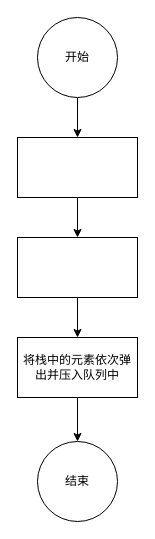
Some shapes in this 155 by 539 pixel diagram are drawn without their labels. The box of each missing label's shape, as (x1, y1, x2, y2) in pixels:
将队列中的元素依次弹出并压入栈中: (16, 236, 138, 298)
开辟一个队列q和栈s: (16, 136, 138, 198)
